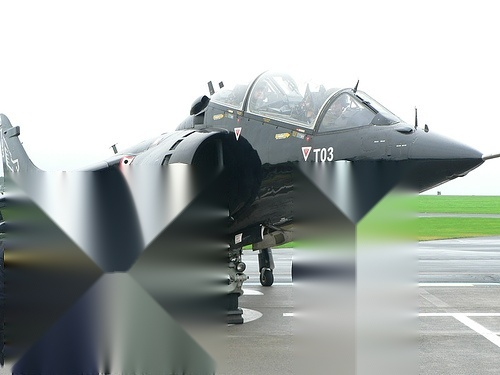aeroplane: (2, 68, 486, 325)
